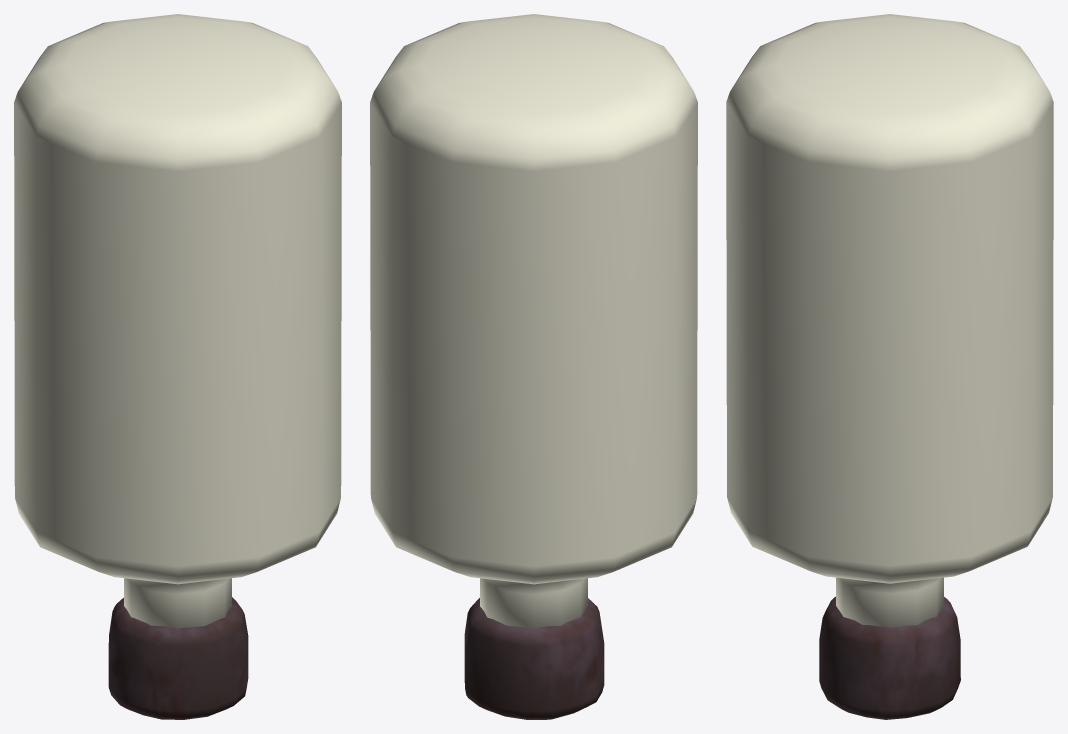
The model's file is lighbulb.fbx.
3 views of the same model, side by side, from view 1: azimuth 30°, elevation 25°; view 2: azimuth 150°, elevation 25°; view 3: azimuth 270°, elevation 25° (orthographic).
Parts seen in each view (by area): view 1: FullBody1; view 2: FullBody1; view 3: FullBody1.
Part boxes in pixels (<box>): FullBody1: <box>14,14,341,719</box>; FullBody1: <box>370,14,697,719</box>; FullBody1: <box>726,14,1053,719</box>.
Bounding box in the file's own units: 13.71 × 29.34 × 13.71.
